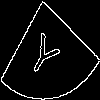Y: (25, 24, 65, 81)
